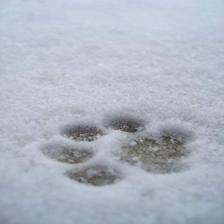dog: (40, 113, 194, 190)
